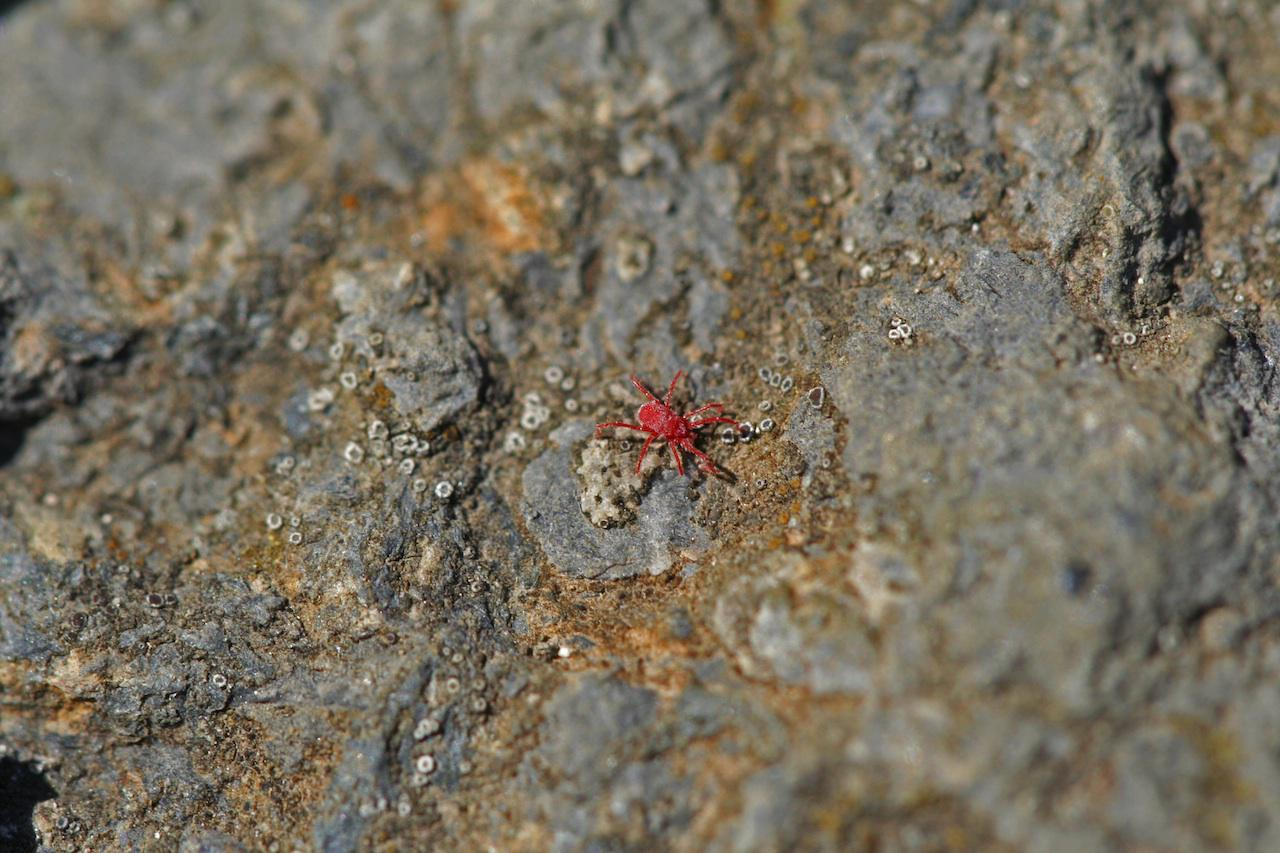tiny_pests: (549, 341, 771, 519)
